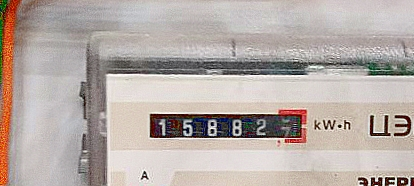1: (155, 116, 167, 135)
2: (254, 116, 266, 136)
5: (180, 117, 192, 137)
7: (279, 124, 290, 138)
8: (205, 116, 217, 137), (230, 117, 242, 138)
screen: (139, 100, 315, 150)
